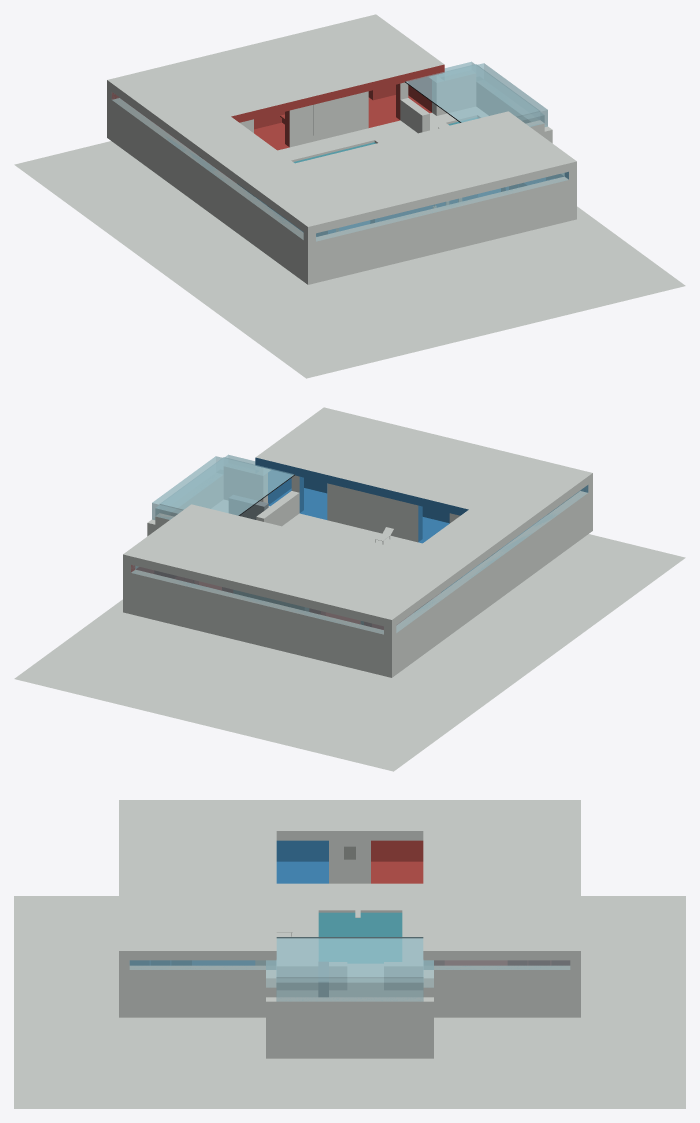
The model's file is fy_pool_day.obj.
3 views of the same model, one above another, from view 1: azimuth 30°, elevation 25°; view 2: azimuth 150°, elevation 25°; view 3: azimuth 270°, elevation 25° (orthographic). The views are drawn at different scales.
Visible parts, largest first — view 1: model_0_face_1702, model_0_face_1257, model_0_face_1498, model_0_face_571, model_0_face_515, model_0_face_1552, model_0_face_618, model_0_face_258, model_0_face_777, model_0_face_1733, model_0_face_752, model_10_face_1952 (+27 smaller); view 2: model_0_face_8, model_0_face_515, model_0_face_571, model_0_face_1702, model_0_face_1498, model_0_face_1552, model_0_face_618, model_0_face_258, model_0_face_777, model_0_face_234, model_10_face_1952, model_0_face_40 (+29 smaller); view 3: model_0_face_8, model_0_face_1257, model_0_face_234, model_0_face_752, model_0_face_1702, model_0_face_515, model_0_face_1552, model_0_face_618, model_0_face_258, model_0_face_777, model_10_face_1952, model_0_face_1711 (+51 smaller).
Part boxes in pixels (x1,y1,x2,y2): model_0_face_1702: (235, 279, 494, 377); model_0_face_1257: (424, 233, 683, 331); model_0_face_1498: (162, 249, 422, 324); model_0_face_571: (88, 194, 258, 272); model_0_face_515: (16, 141, 183, 217); model_0_face_1552: (240, 142, 422, 206); model_0_face_618: (135, 66, 313, 129); model_0_face_258: (272, 34, 444, 96); model_0_face_777: (382, 111, 549, 172); model_0_face_1733: (308, 209, 450, 276); model_0_face_752: (401, 207, 611, 278); model_10_face_1952: (405, 64, 539, 122); model_0_face_8: (16, 626, 279, 725); model_0_face_515: (209, 673, 464, 770); model_0_face_571: (281, 640, 539, 717); model_0_face_1702: (516, 534, 683, 610); model_0_face_1498: (444, 587, 611, 663); model_0_face_1552: (382, 458, 564, 522); model_0_face_618: (281, 536, 459, 599); model_0_face_258: (150, 504, 321, 566); model_0_face_777: (255, 427, 423, 488); model_0_face_234: (88, 600, 302, 672); model_10_face_1952: (160, 457, 294, 515); model_0_face_40: (131, 573, 253, 635); model_0_face_8: (519, 1000, 684, 1108); model_0_face_1257: (15, 1002, 180, 1108); model_0_face_234: (347, 1017, 519, 1108); model_0_face_752: (180, 1017, 347, 1108); model_0_face_1702: (15, 896, 118, 1002); model_0_face_515: (581, 896, 684, 1000); model_0_face_1552: (182, 800, 276, 879); model_0_face_618: (423, 800, 517, 877); model_0_face_258: (423, 877, 519, 950); model_0_face_777: (180, 880, 276, 950); model_10_face_1952: (276, 937, 423, 976); model_0_face_1711: (119, 800, 181, 879).
Bounding box in the file's own units: 96 × 25.75 × 128.
